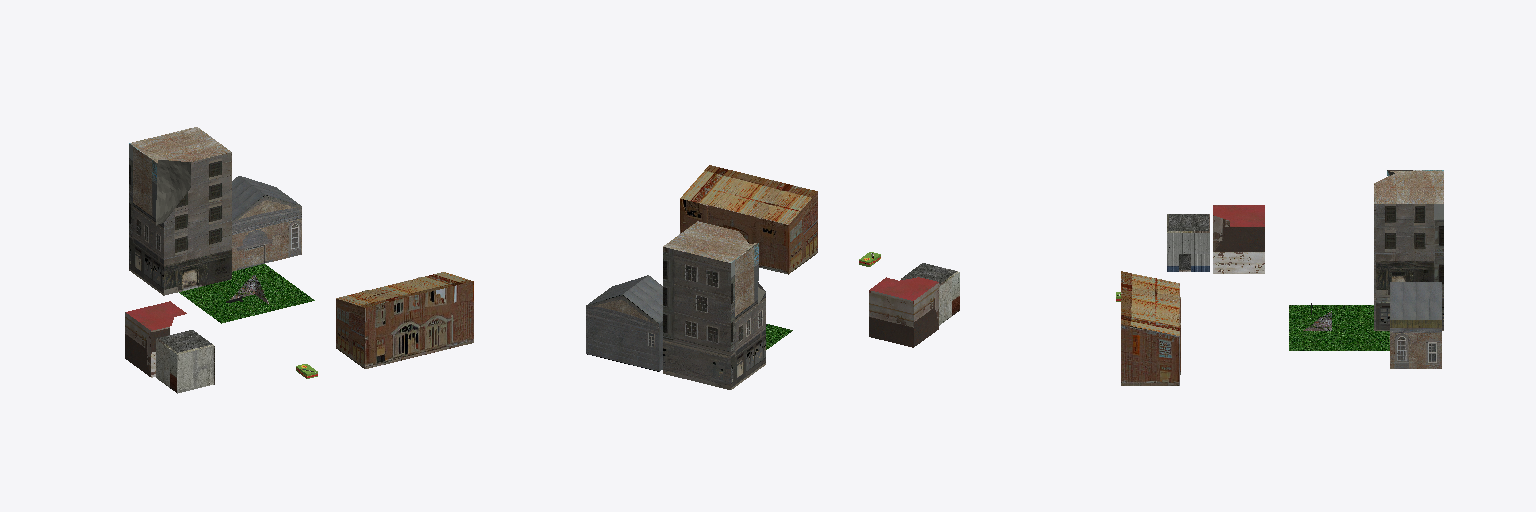
The picture shows the model from 3 angles: view 1: azimuth 30°, elevation 25°; view 2: azimuth 150°, elevation 25°; view 3: azimuth 270°, elevation 25°; orthographic projection.
Parts seen in each view (by area): view 1: Alto, Bodega, Cube.001, Pasto, Edificio01, Cube.002; view 2: Alto, Bodega, Cube.001, Cube.002, Edificio01; view 3: Alto, Bodega, Cube.001, Pasto, Cube.002, Edificio01.
Part boxes in pixels (bbox=[...]): Alto: bbox=[129, 127, 231, 295]; Bodega: bbox=[336, 272, 473, 368]; Cube.001: bbox=[232, 176, 301, 271]; Pasto: bbox=[179, 264, 314, 323]; Edificio01: bbox=[156, 330, 214, 393]; Cube.002: bbox=[125, 301, 186, 377]; Alto: bbox=[663, 221, 765, 389]; Bodega: bbox=[680, 165, 817, 274]; Cube.001: bbox=[586, 275, 662, 371]; Cube.002: bbox=[869, 277, 938, 347]; Edificio01: bbox=[901, 263, 959, 325]; Alto: bbox=[1374, 170, 1443, 330]; Bodega: bbox=[1121, 271, 1180, 385]; Cube.001: bbox=[1390, 282, 1441, 368]; Pasto: bbox=[1289, 305, 1389, 350]; Cube.002: bbox=[1213, 205, 1264, 273]; Edificio01: bbox=[1167, 214, 1209, 271].
Size of the model in its own units: 74.16 by 32.68 by 76.29.
Materials: 9 (8 with a texture image).